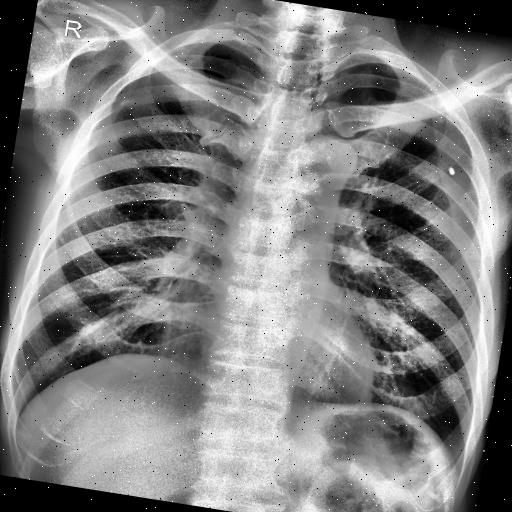0- Aortic enlargement: (285, 128, 363, 196)
2- Calcification: (118, 94, 134, 108)
7- Lung Opacity: (119, 96, 135, 108)
9- Other lesion: (444, 163, 457, 178), (446, 165, 456, 176)
